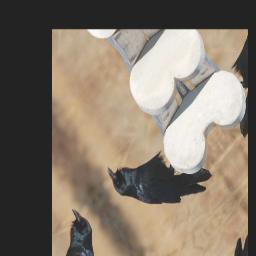Crow: (103, 102, 216, 250)
